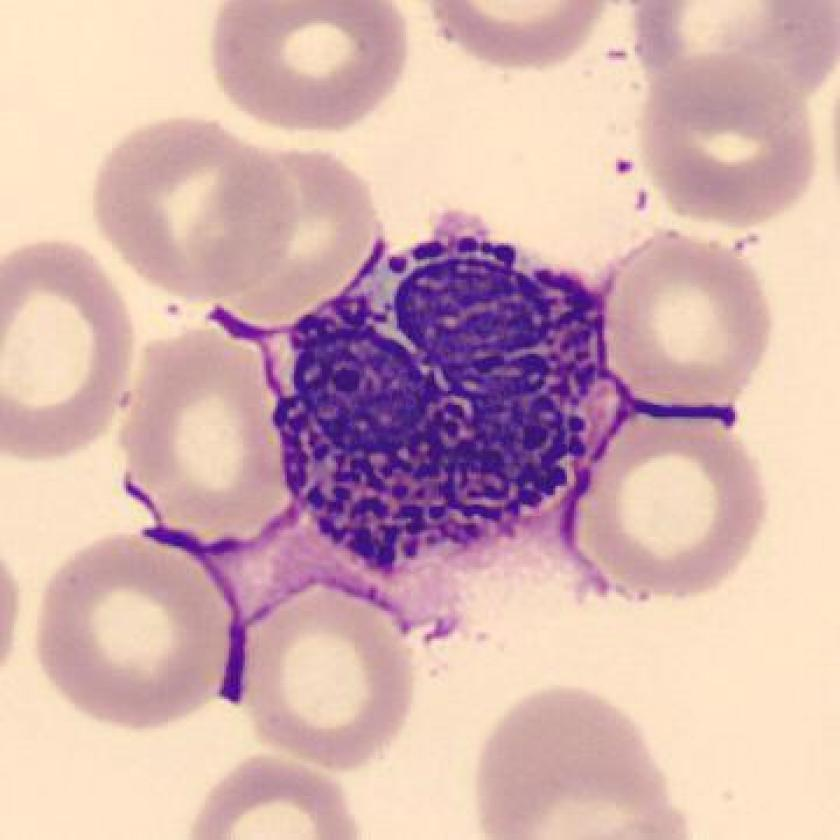basophil: (298, 253, 620, 573)
